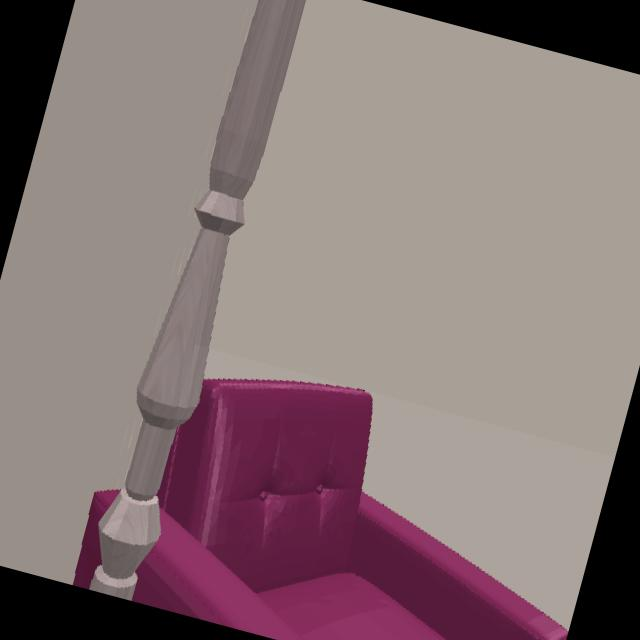sofa: (129, 379, 568, 640)
